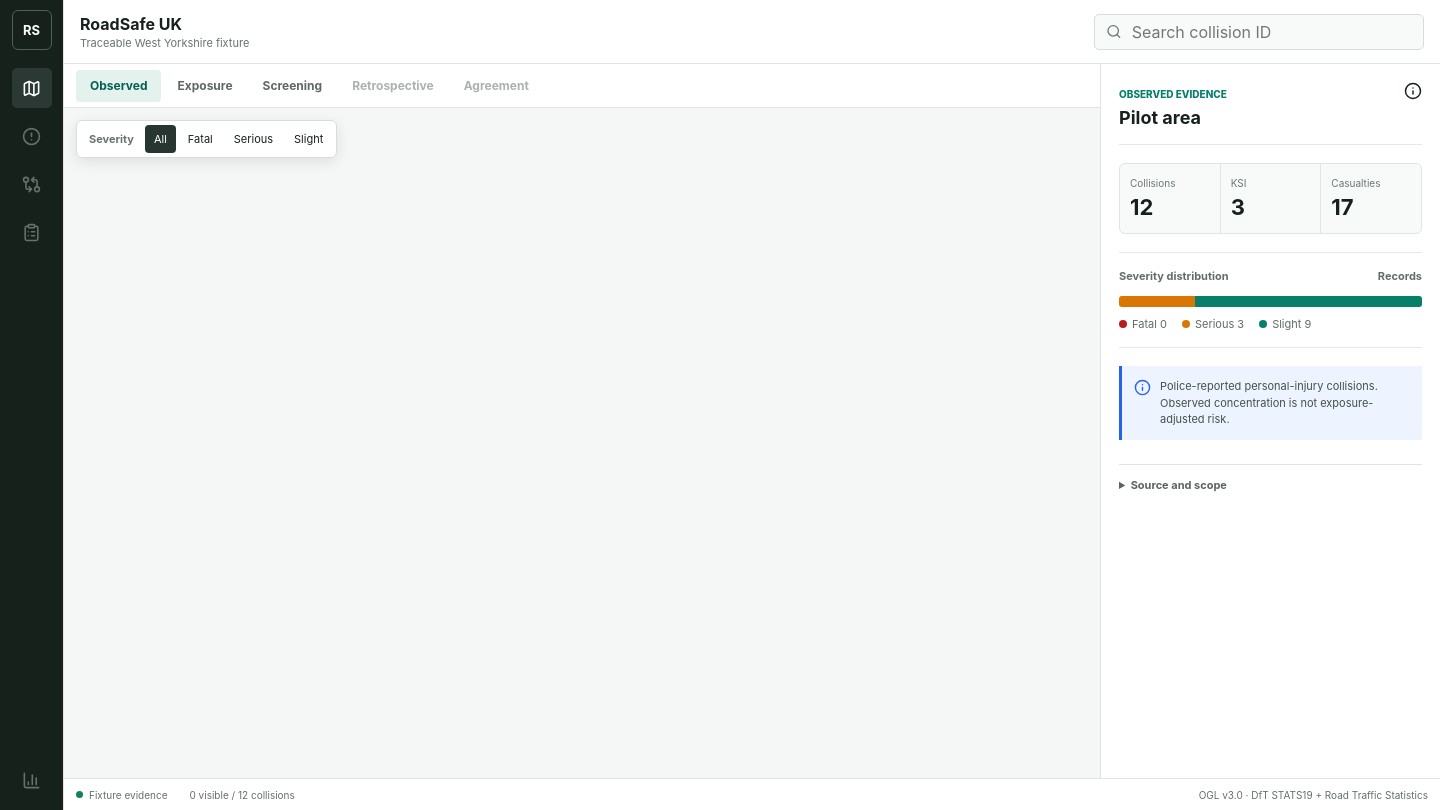
Test: reports a download failure without reporting success
The image size is (1440, 810).
Check: the text "Fixture evidence" is shown, box [76,788,168,800]
Click the button "Exposure". click: (205, 86)
box: [164,70,247,102]
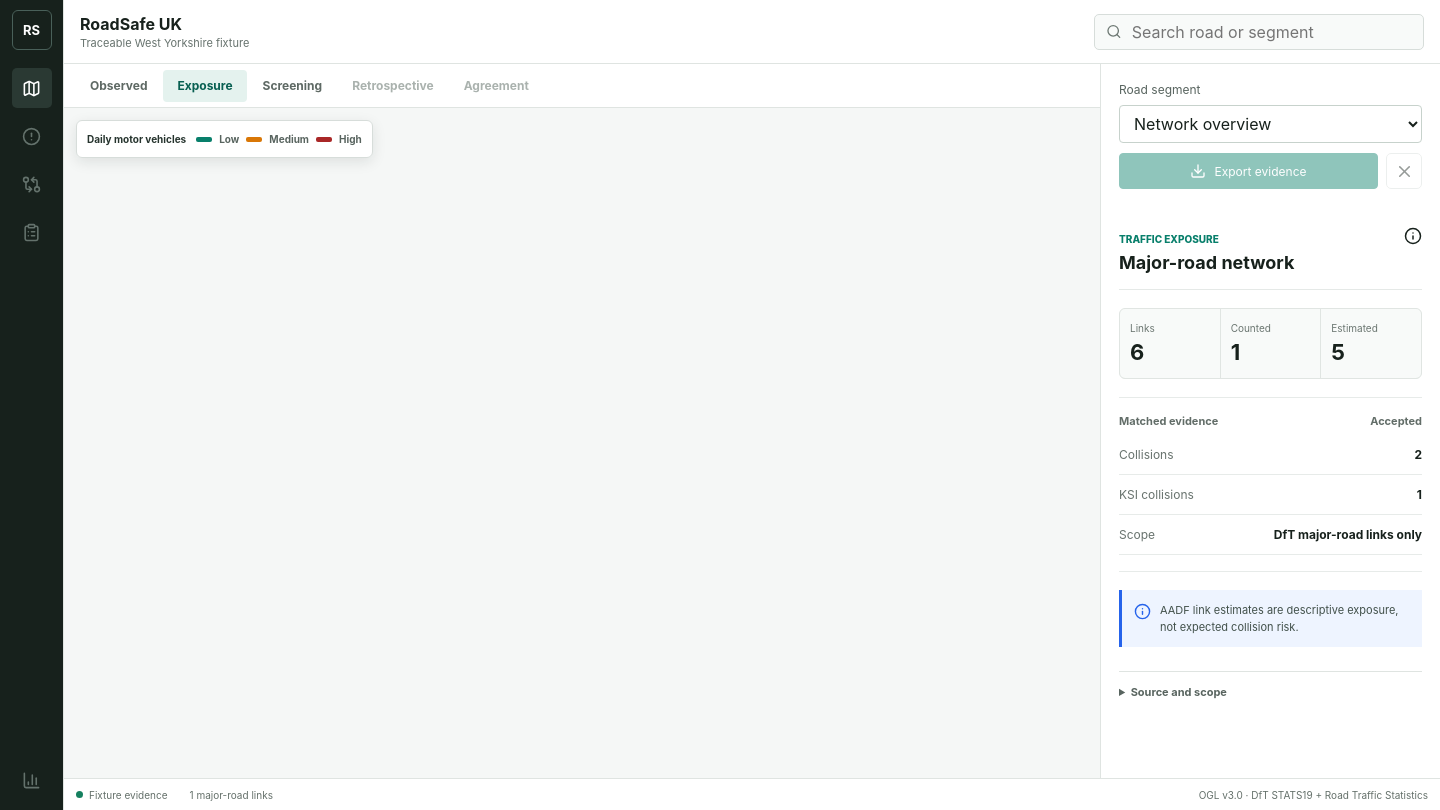
Select "A1 · 1" in the dropdown labelled "Road segment". click: (1270, 124)
box: [1119,105,1422,143]
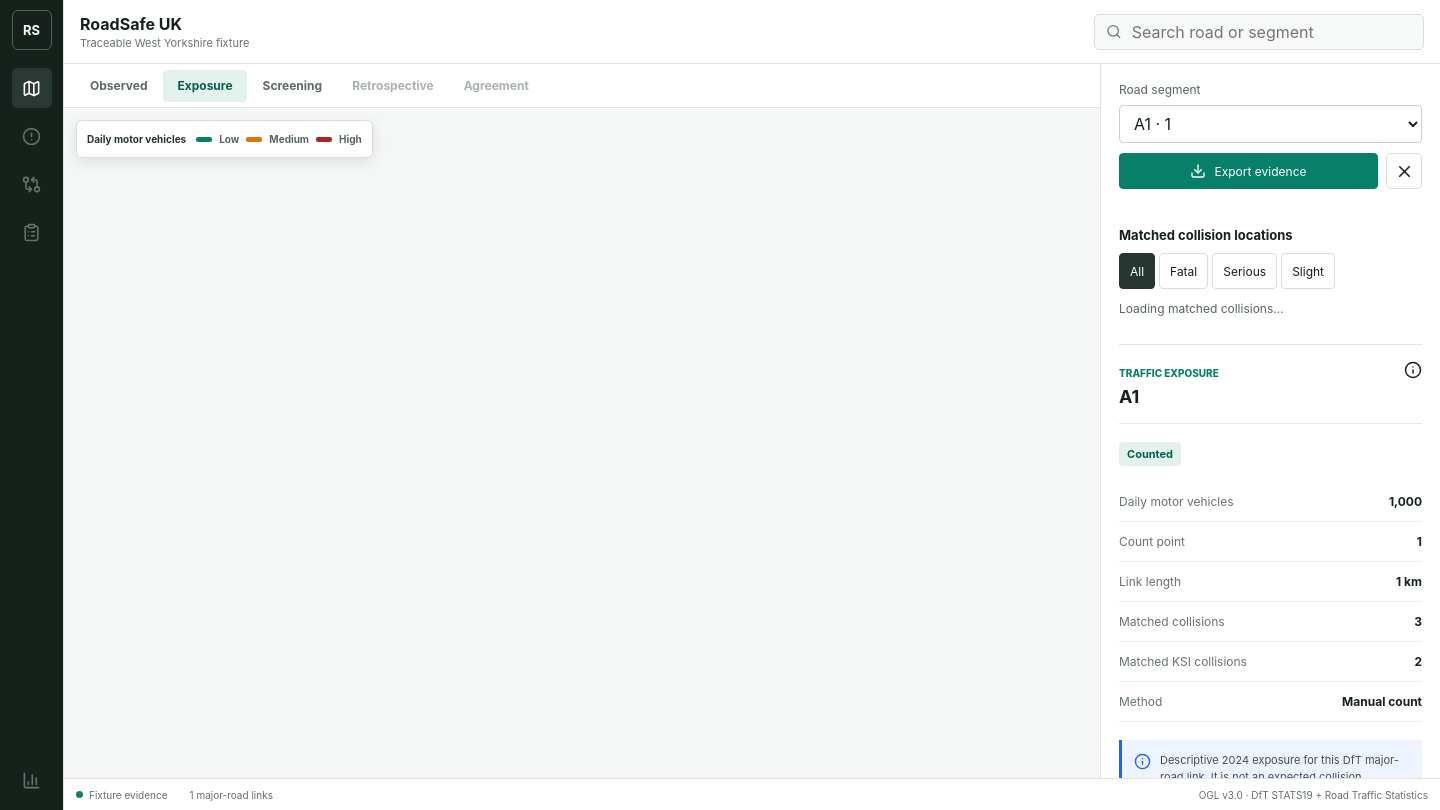
Click the button "Export evidence". click: (1248, 171)
box: [1119,153,1378,189]
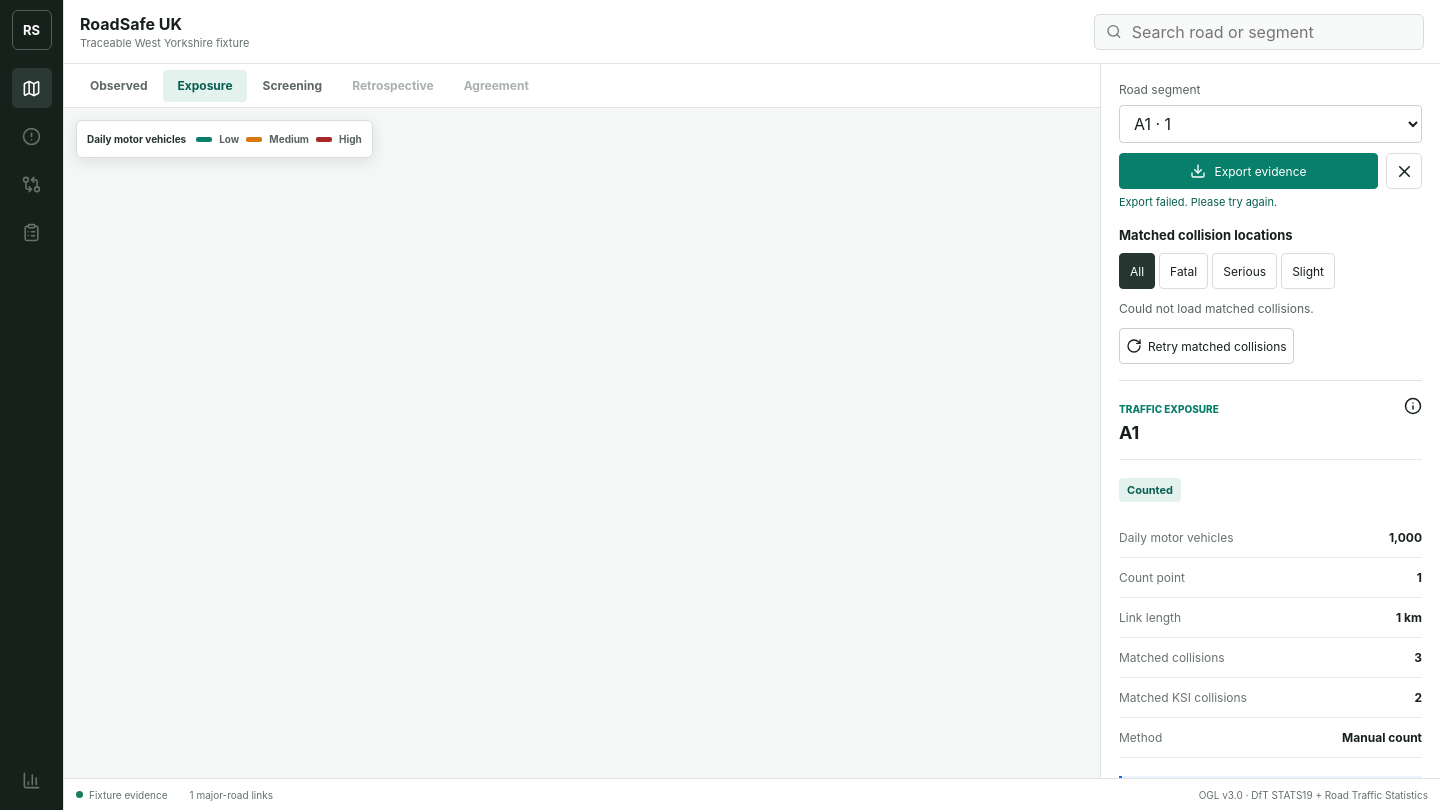
Check: the message shows "Export failed", box [1119,195,1277,209]
